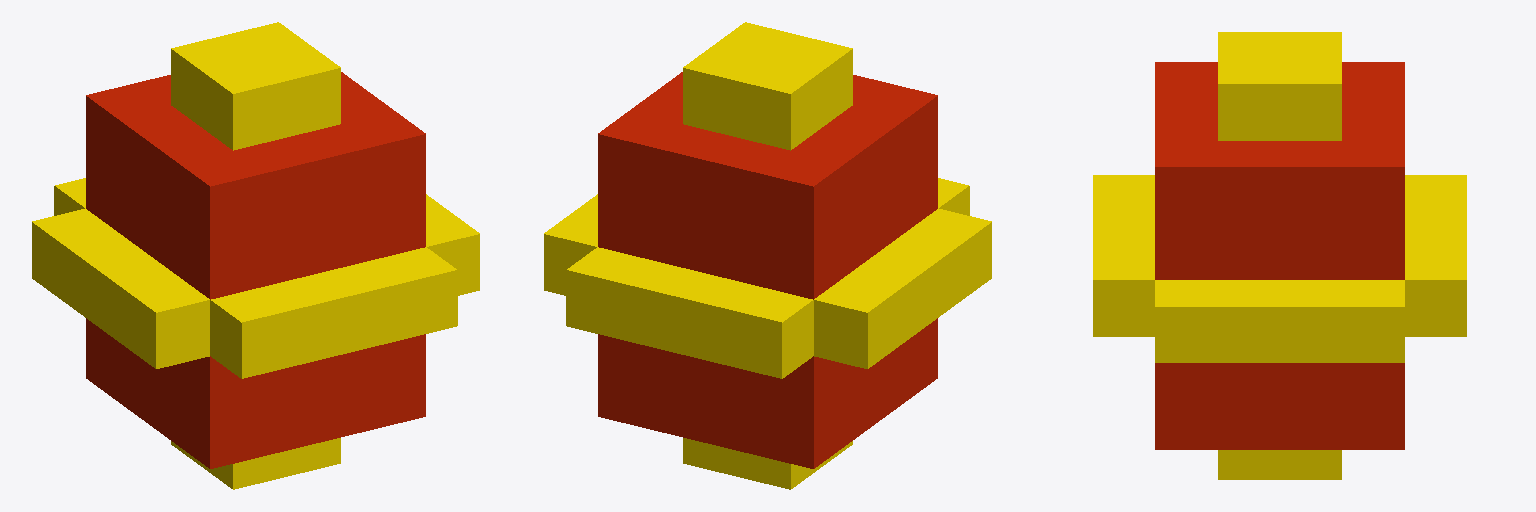
3 views of the same model, side by side, from view 1: azimuth 30°, elevation 25°; view 2: azimuth 150°, elevation 25°; view 3: azimuth 270°, elevation 25° (orthographic).
Parts seen in each view (by area): view 1: object 1; view 2: object 1; view 3: object 1.
Boxes of the visible parts, box(x1,y1,x2,y2) form: object 1: box(32, 22, 479, 489); object 1: box(544, 22, 991, 489); object 1: box(1093, 32, 1466, 479).
Size of the model in its own units: 0.6 by 0.7 by 0.6.
1 materials, 1 textured.